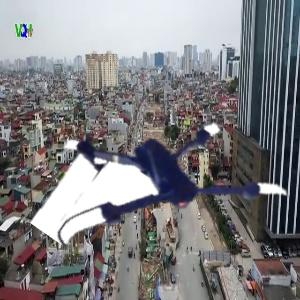drone: (60, 75, 283, 298)
